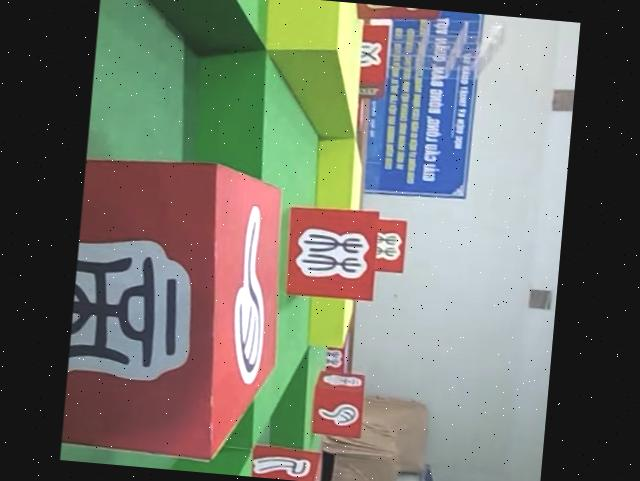R2 Fake: (60, 147, 298, 468), (280, 201, 384, 303), (305, 366, 371, 441), (240, 440, 328, 481)
